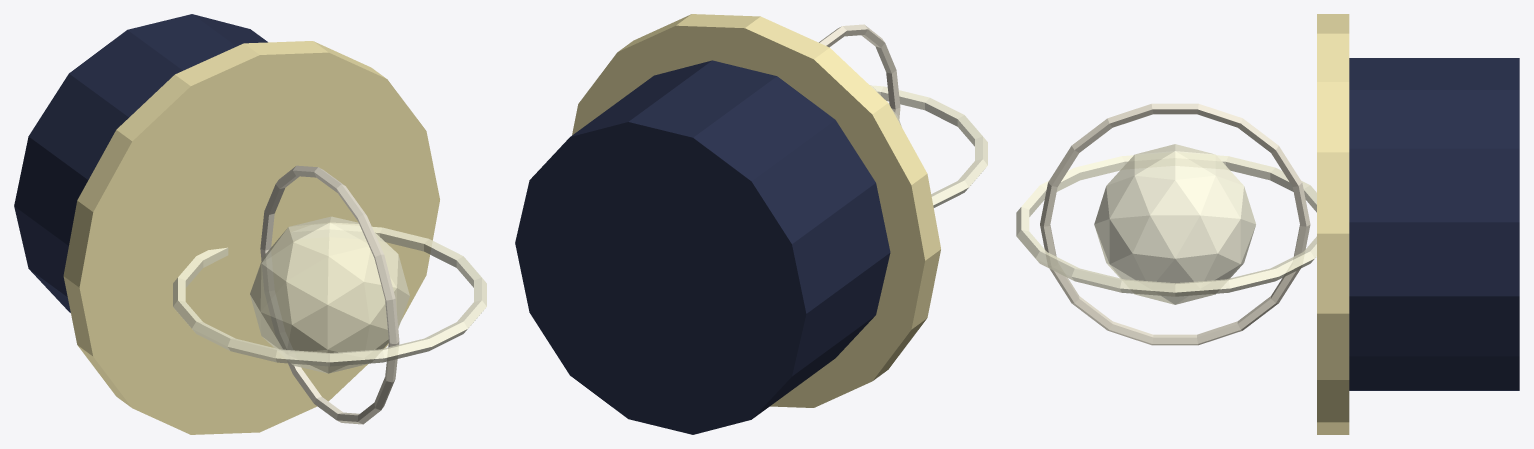
Rendered from 09_high_tier_relic_pedestal.glb.
3 views of the same model, side by side, from view 1: azimuth 30°, elevation 25°; view 2: azimuth 150°, elevation 25°; view 3: azimuth 270°, elevation 25° (orthographic).
Parts seen in each view (by area): view 1: top_rim, relic_pedestal, floating_relic_core, relic_orbit_a, relic_orbit_b; view 2: relic_pedestal, top_rim, relic_orbit_a, relic_orbit_b; view 3: relic_pedestal, floating_relic_core, top_rim, relic_orbit_b, relic_orbit_a.
Boxes of the visible parts, x1,y1,x2,y2 form: top_rim: [63, 41, 439, 434]; relic_pedestal: [14, 14, 267, 312]; floating_relic_core: [250, 216, 409, 373]; relic_orbit_a: [173, 226, 486, 366]; relic_orbit_b: [260, 165, 399, 424]; relic_pedestal: [515, 60, 890, 434]; top_rim: [572, 14, 940, 407]; relic_orbit_a: [871, 85, 987, 207]; relic_orbit_b: [819, 24, 900, 119]; relic_pedestal: [1349, 58, 1519, 390]; floating_relic_core: [1094, 144, 1255, 304]; top_rim: [1317, 14, 1349, 434]; relic_orbit_b: [1040, 103, 1310, 345]; relic_orbit_a: [1016, 155, 1316, 296].
Bounding box in the file's own units: 1.04 × 1.04 × 1.24.
